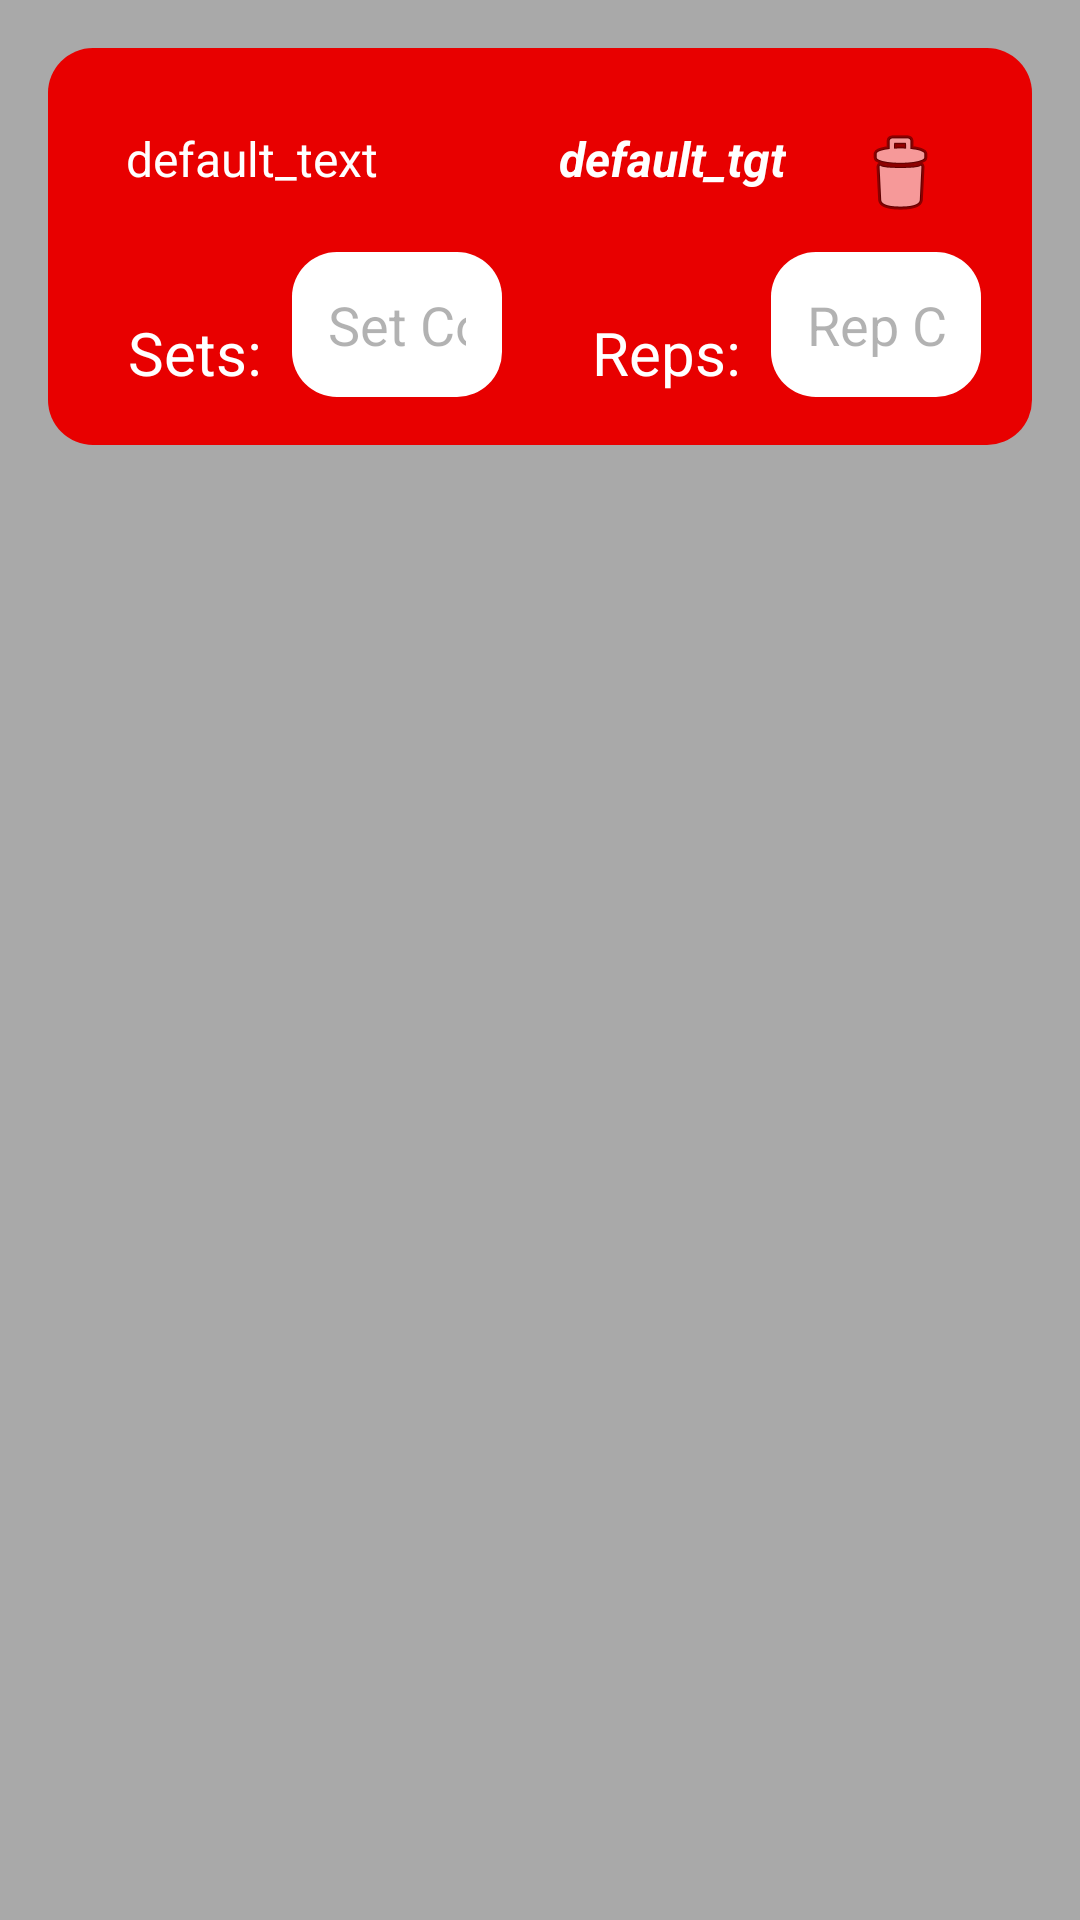

Icons on this 1080px×1920px Android screen, each with its box as bbox=[x1, y1, x2, y2]:
Delete this workout: bbox=[873, 135, 928, 210]
